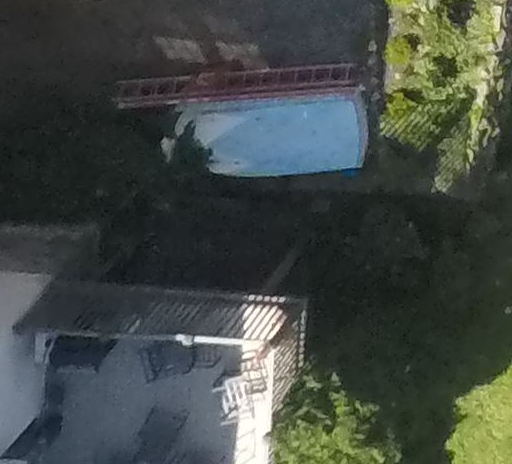ladder: (99, 54, 372, 111)
